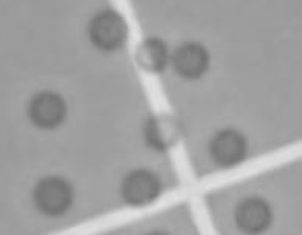cell: (81, 5, 135, 56), (139, 106, 191, 155), (165, 34, 217, 82), (26, 171, 79, 218), (203, 123, 252, 170), (114, 165, 163, 211), (24, 84, 71, 131), (230, 193, 277, 235), (128, 31, 172, 74)
